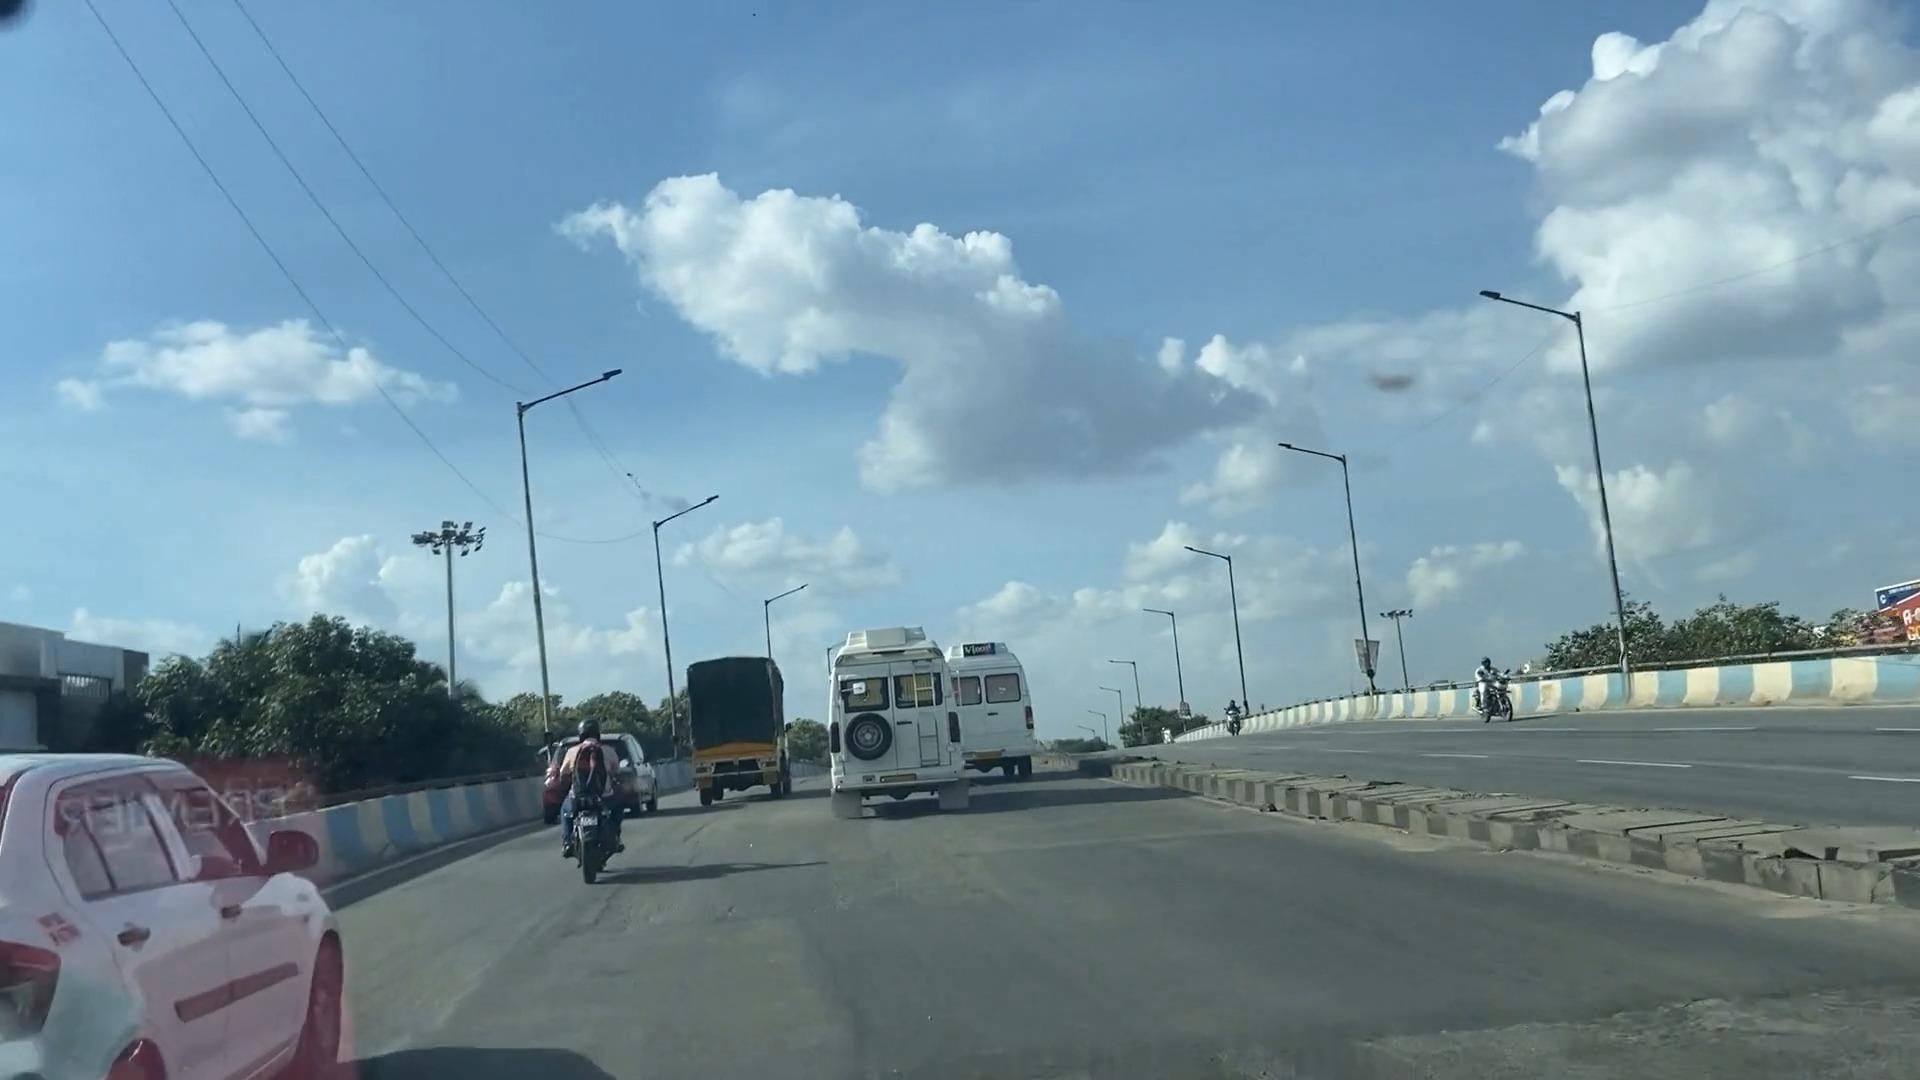HMV: (827, 618, 971, 810), (680, 654, 791, 816), (947, 633, 1025, 791)
LMV: (20, 742, 343, 1080), (560, 727, 624, 884)
RoadDamages: (1340, 944, 1907, 1080)
